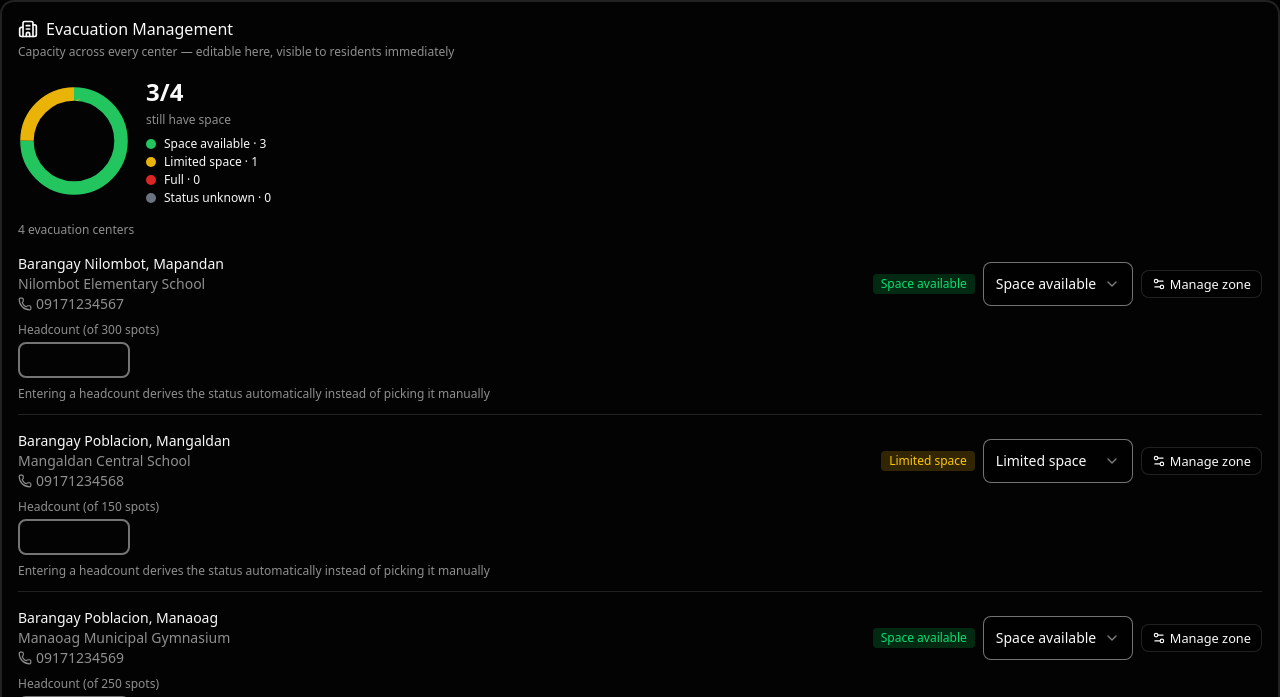
Test: EvacuationManagementPanel › writes a headcount and tells the admin when that write fails
The width and height of the screenshot is (1280, 697).
Type "120" into the number field labelled "Headcount (of 300 spots)" at (74, 360), box [18,342,130,378]
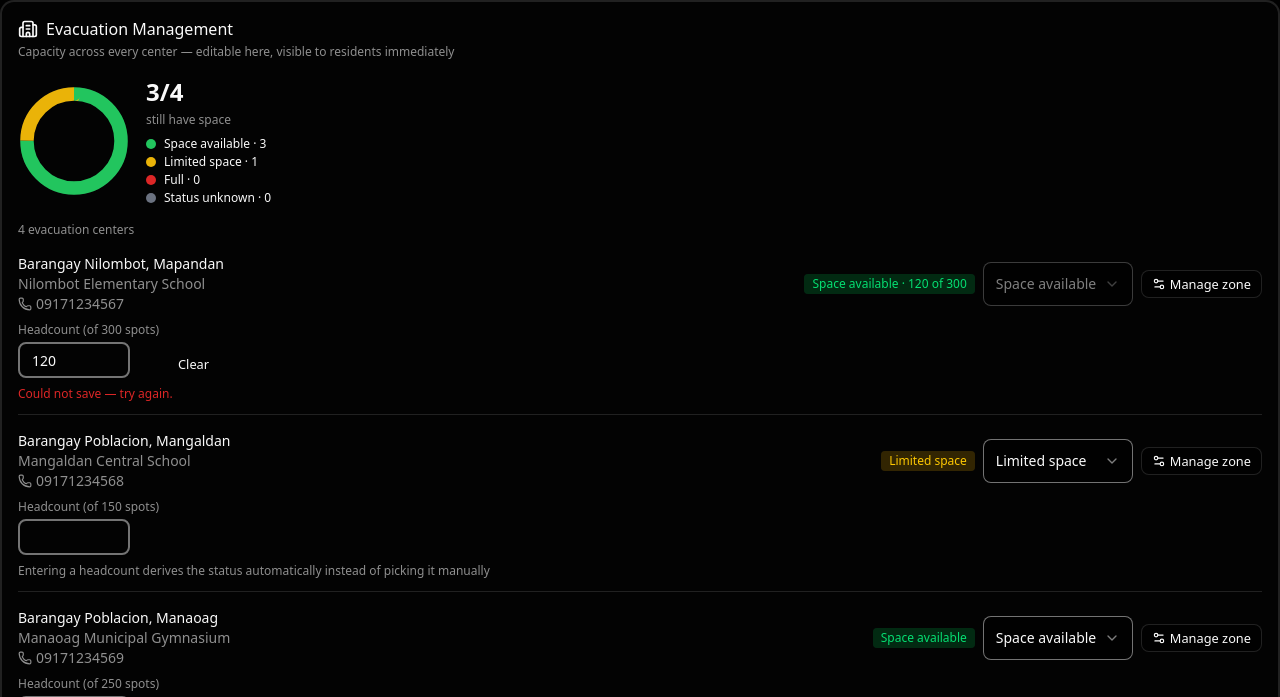
Expected: the text "Could not save — try again." is shown, [18,385,173,402]
